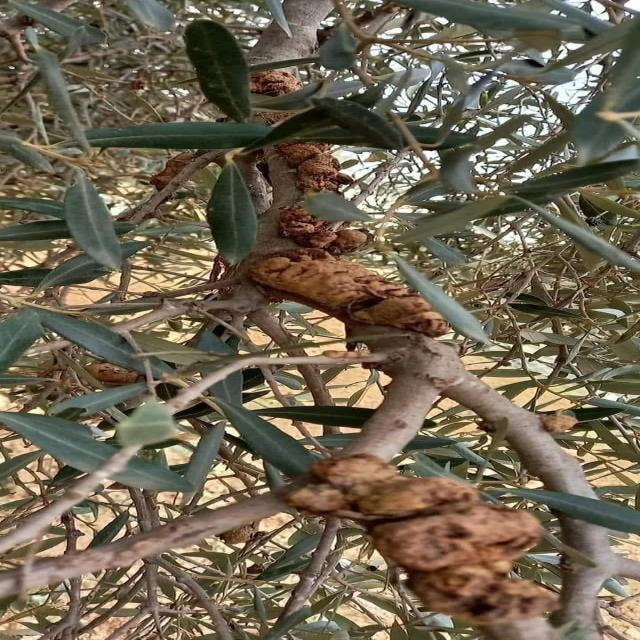Tuberculosis: (286, 455, 558, 629), (248, 249, 447, 337), (279, 205, 370, 257), (276, 143, 353, 195), (140, 150, 196, 191), (251, 70, 301, 97), (87, 363, 140, 386)
